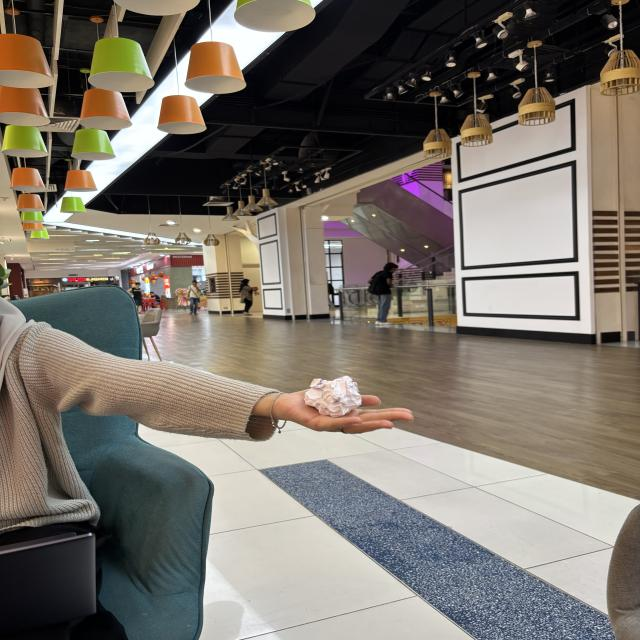crumpled_paper: (305, 376, 364, 418)
